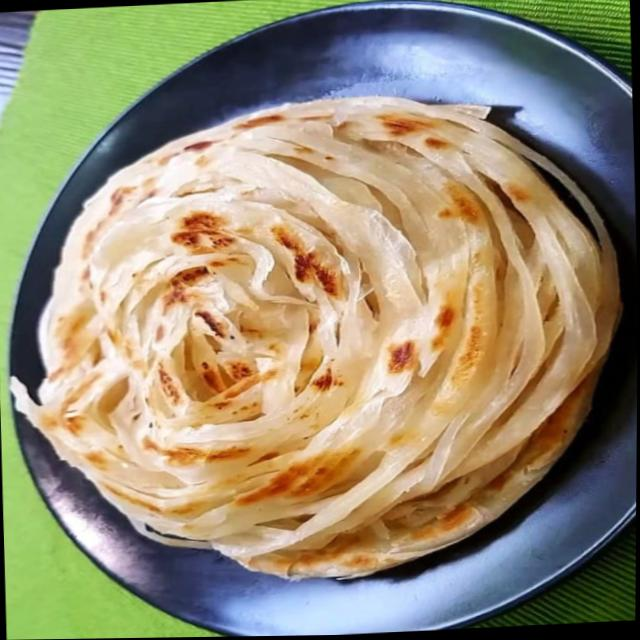PAROTTA: (11, 93, 621, 577)
